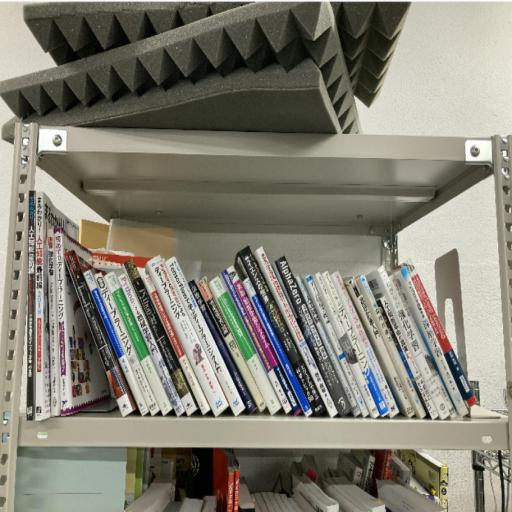bed: (235, 246, 317, 415), (166, 258, 244, 415), (276, 257, 351, 416), (64, 251, 135, 415), (124, 260, 197, 415), (405, 261, 476, 406), (105, 272, 170, 415)
road: (40, 128, 488, 234), (18, 412, 508, 449)
